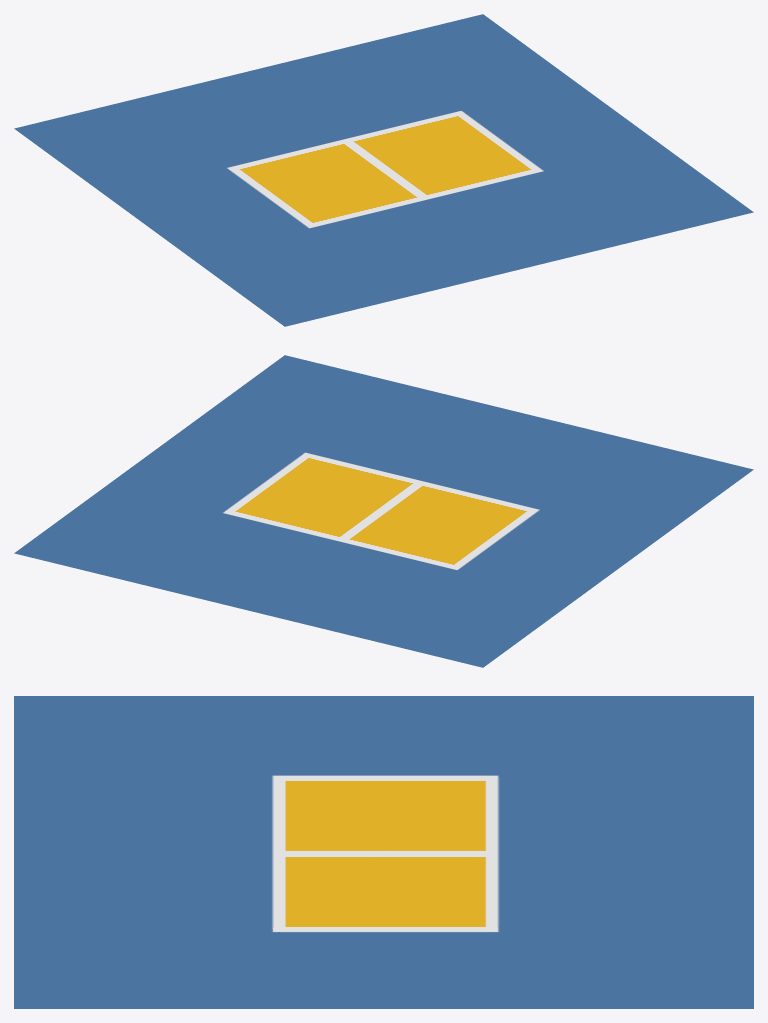
Rendered from Lapangan.fbx.
The picture shows the model from 3 angles, top to bottom: view 1: azimuth 30°, elevation 25°; view 2: azimuth 150°, elevation 25°; view 3: azimuth 270°, elevation 25°; orthographic projection. The views are drawn at different scales.
Visible parts, largest first — view 1: Arena; view 2: Arena; view 3: Arena.
Part boxes in pixels (x1,y1,x2,y2): Arena: [14, 14, 753, 326]; Arena: [14, 355, 753, 667]; Arena: [14, 696, 753, 1008].
Size of the model in its own units: 2010 by 0.000328 by 2010.
Materials: 1 (1 with a texture image).
